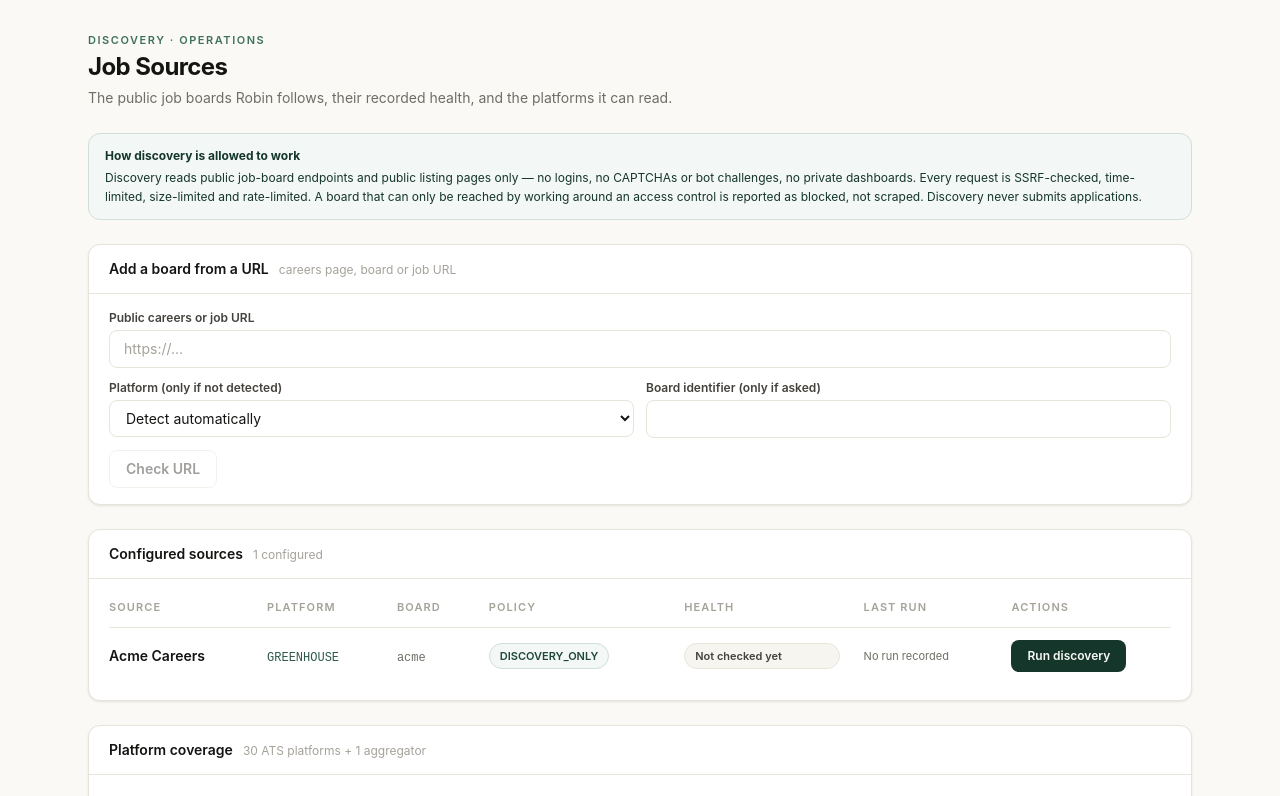
Test case: SourcesPage operations view › reports a failed board fetch as a failure, not as completed discovery
Expected: the text "Acme Careers" is shown, x1=109 y1=647 x2=205 y2=664
Click the button with aria-label "Run discovery for Acme Careers": (1069, 656) x1=1012 y1=640 x2=1126 y2=672
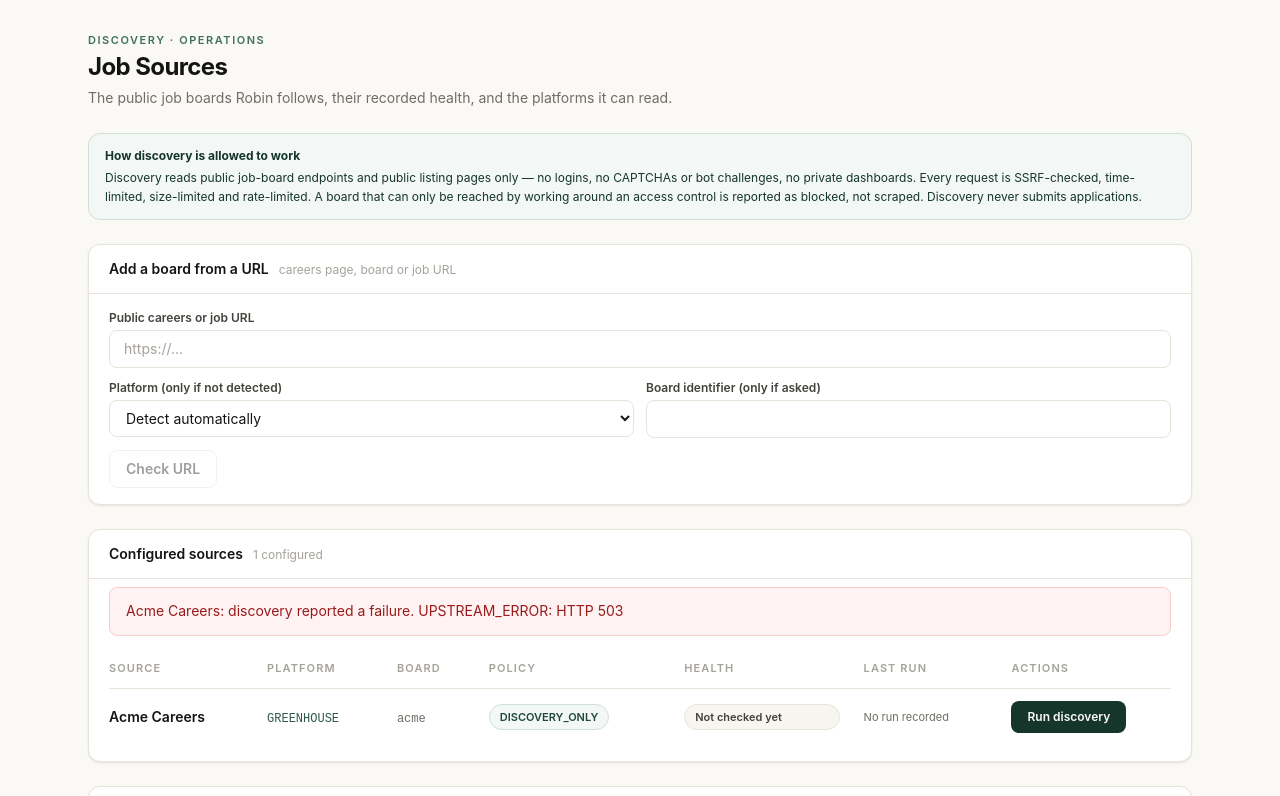
Expected: the text "Acme Careers: discovery reported a failure. UPSTREAM_ERROR: HTTP 503" is shown, x1=109 y1=587 x2=1171 y2=636
